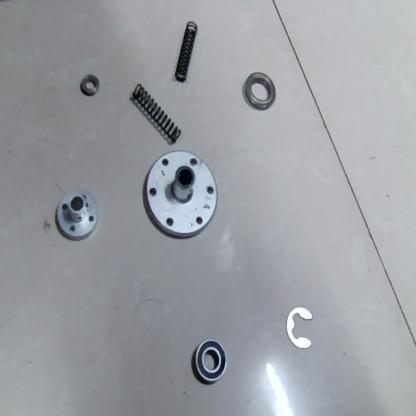FOD: (1, 2, 414, 413), (144, 149, 221, 241), (129, 81, 182, 144), (55, 191, 102, 240), (190, 334, 230, 390), (284, 301, 321, 352), (174, 19, 200, 85), (242, 70, 278, 114), (79, 70, 101, 96)
